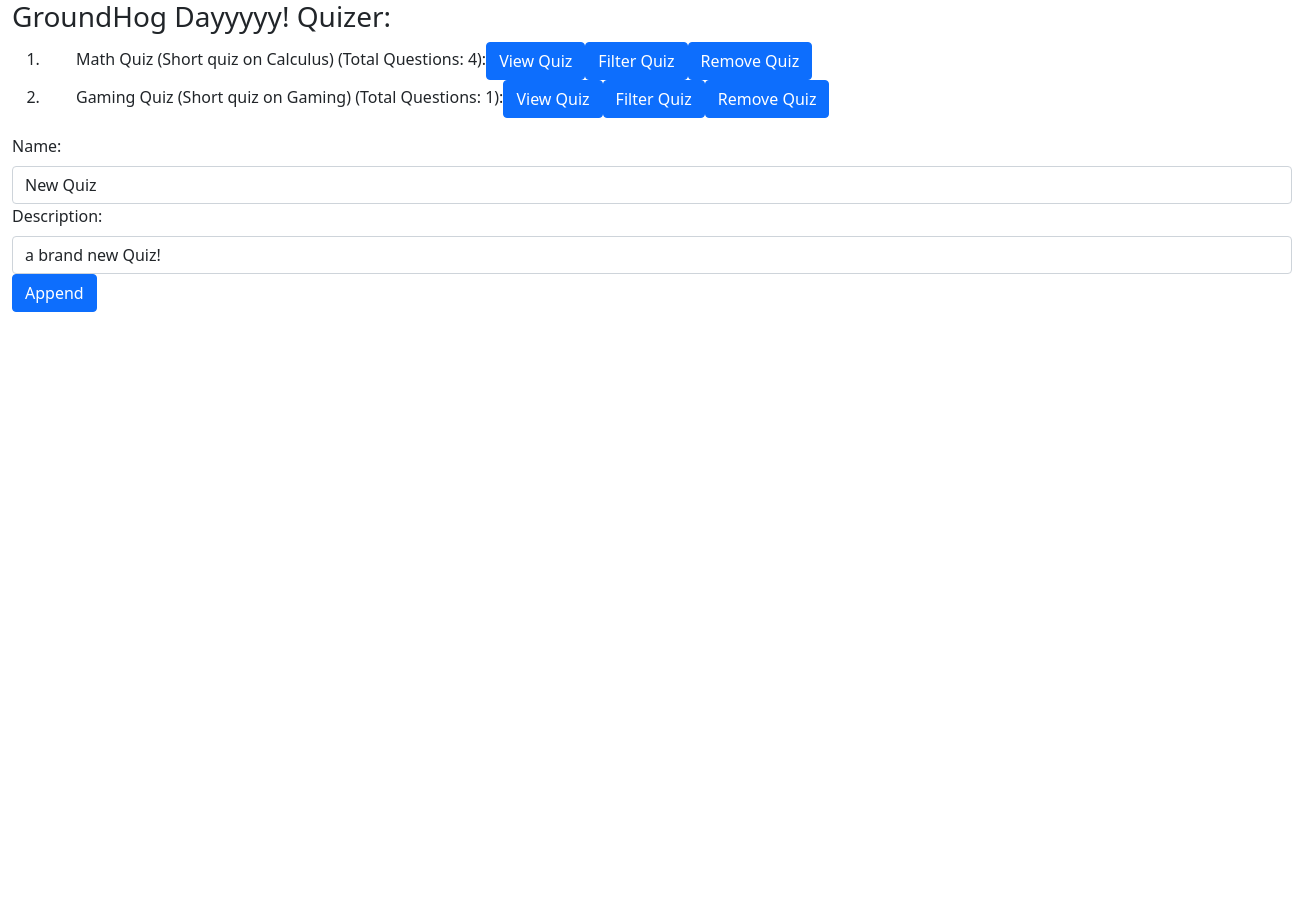
Test: Questions Tests › No more Unpublished Questions after the Filter
Click the button with test id "view-quiz-button" in the row of "Short quiz on Calculus": x=536, y=61 [486, 42, 585, 80]
(page scrolled)
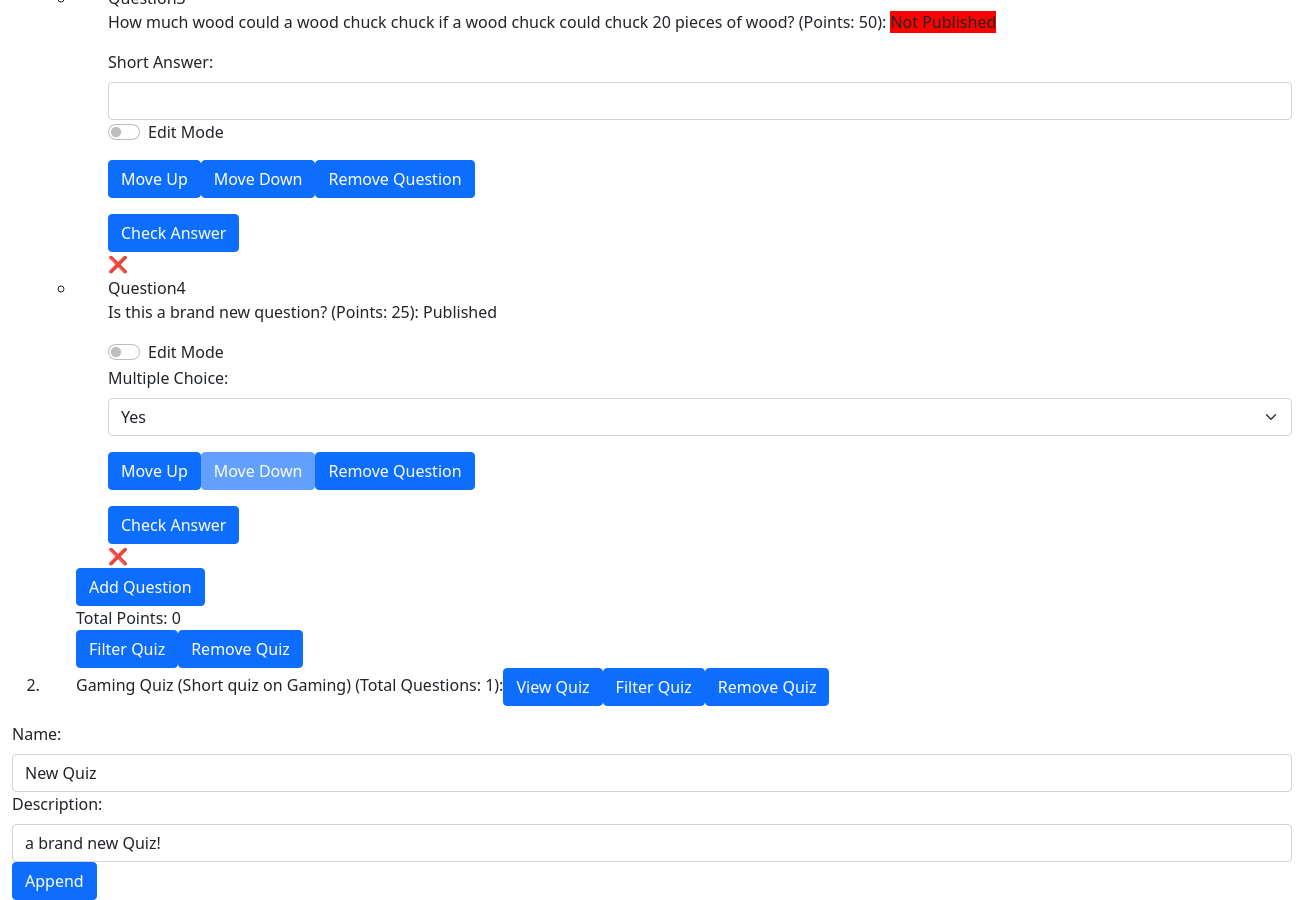
Click the button with test id "filter-quiz-button" below "Total Points:": x=127, y=649 [76, 630, 178, 668]
(page scrolled)
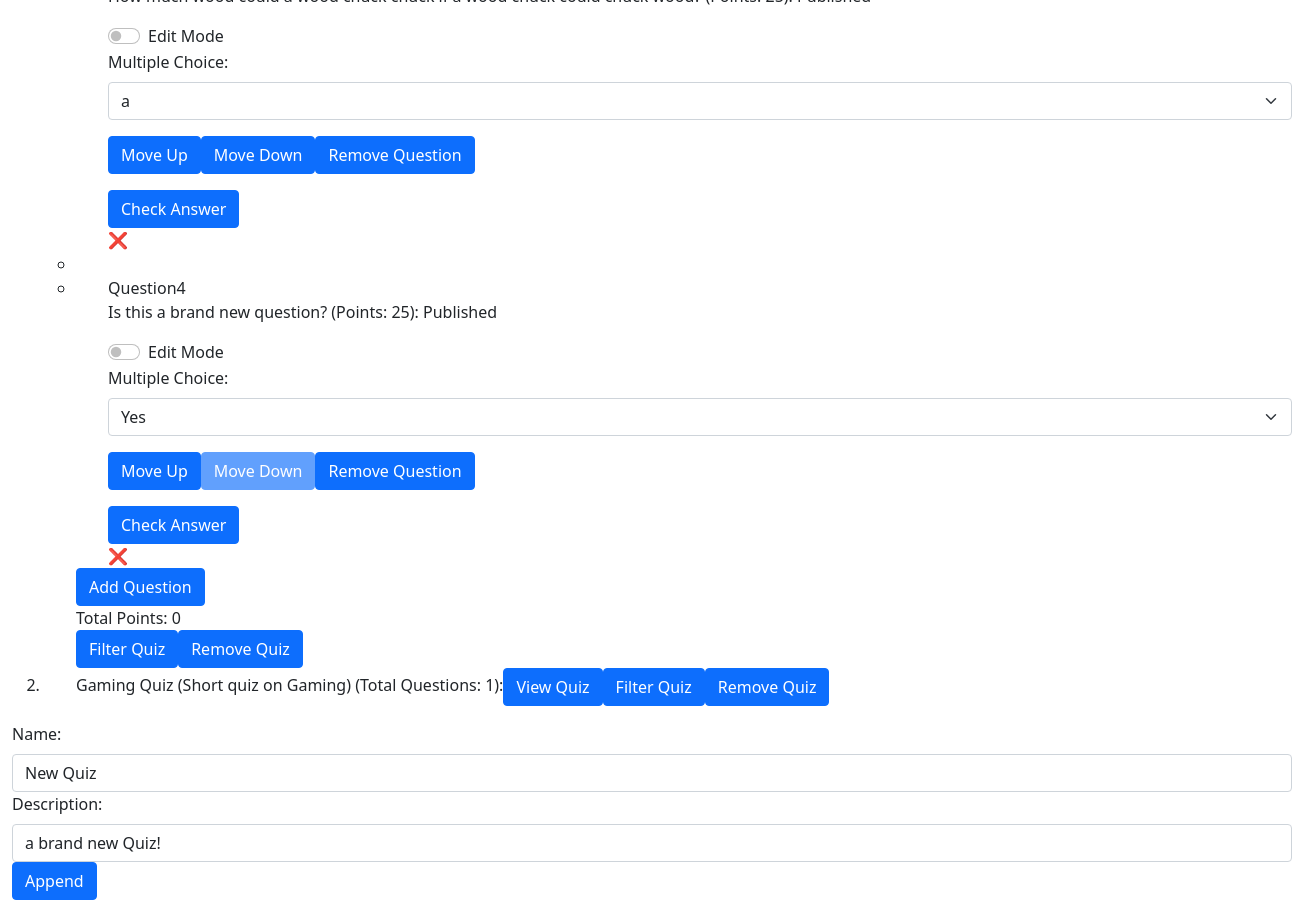
expect the text "Not Published" is gone: met
